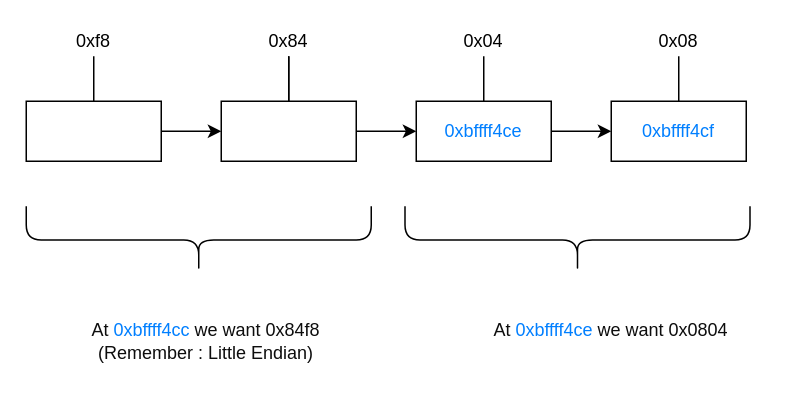
Image size: 803x411. Some labels were removed from this diagram. Here are the shapes that lost their labels. From the top down, the centre of each, then its label:
At (93,130): "0xbffff4cc".
At (288,130): "0xbffff4cd".
